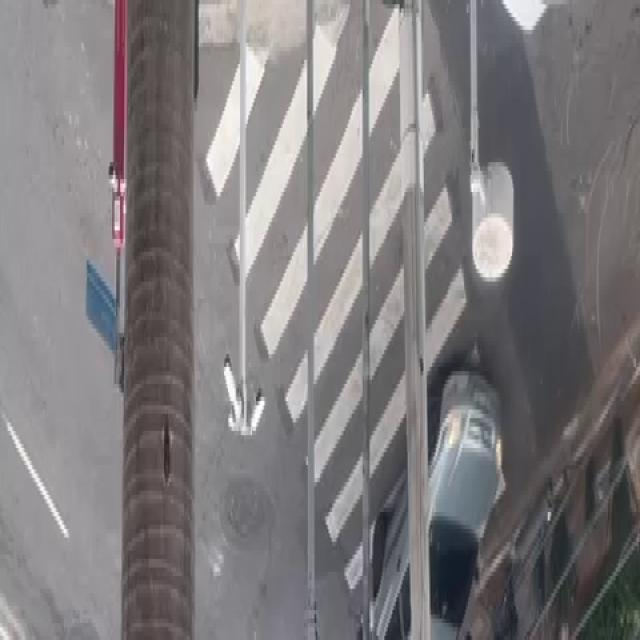car: (356, 353, 512, 635)
